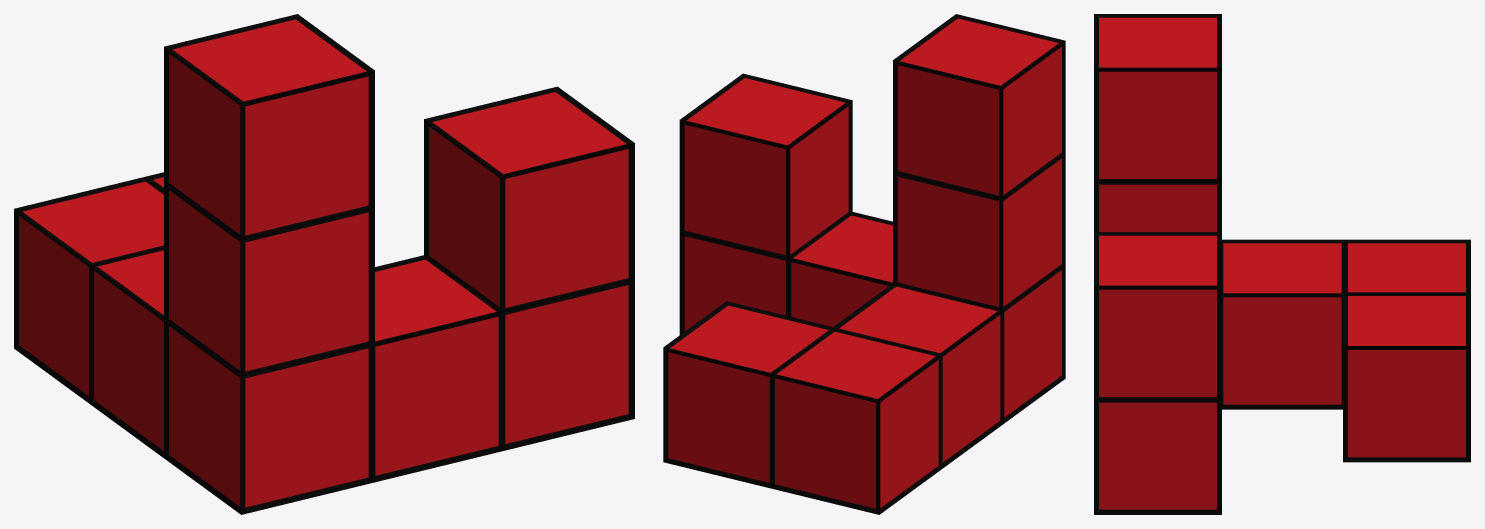
The picture shows the model from 3 angles, left to right: view 1: azimuth 30°, elevation 25°; view 2: azimuth 150°, elevation 25°; view 3: azimuth 270°, elevation 25°; orthographic projection. The views are drawn at different scales.
Parts seen in each view (by area): view 1: b:Mesh; view 2: b:Mesh; view 3: b:Mesh.
Boxes of the visible parts, x1,y1,x2,y2 form: b:Mesh: (14, 14, 634, 514); b:Mesh: (663, 14, 1065, 514); b:Mesh: (1094, 14, 1470, 514).
Size of the model in its own units: 6.06 by 6.06 by 6.06.
